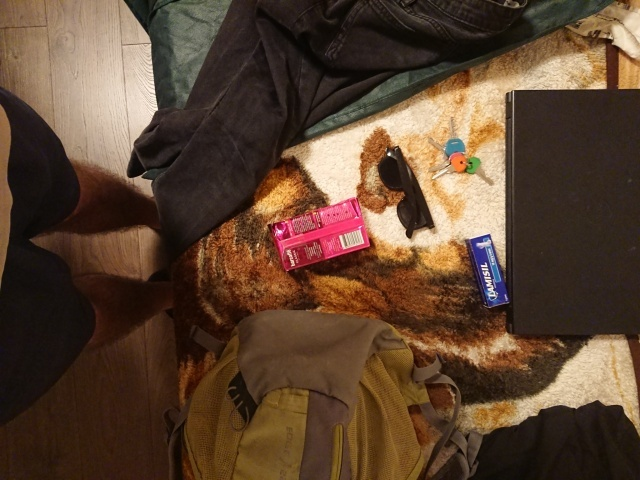Barcaffe Classic Original 225g: (265, 194, 373, 275)
